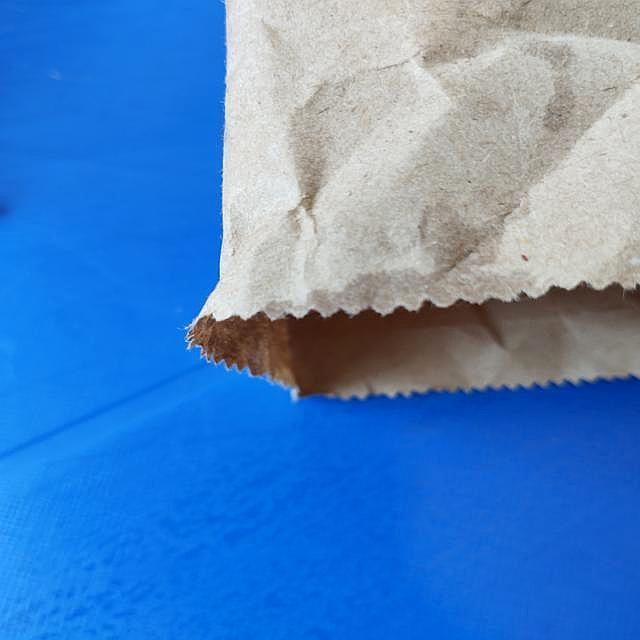Biodegradable: (224, 2, 640, 392)
